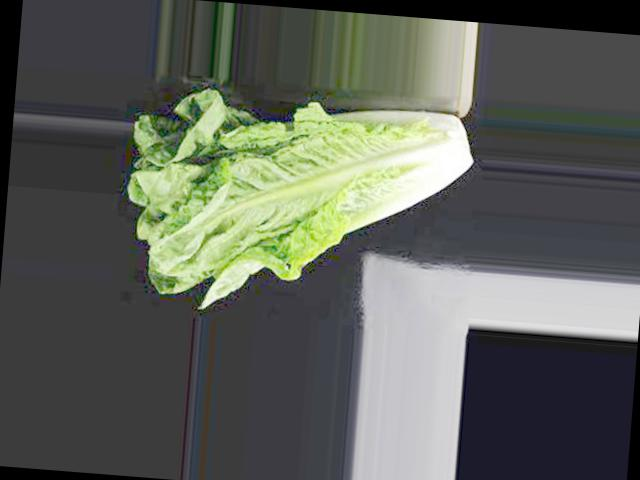lettuce: (394, 1, 493, 295)
